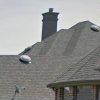Chimney: (36, 3, 60, 43)
